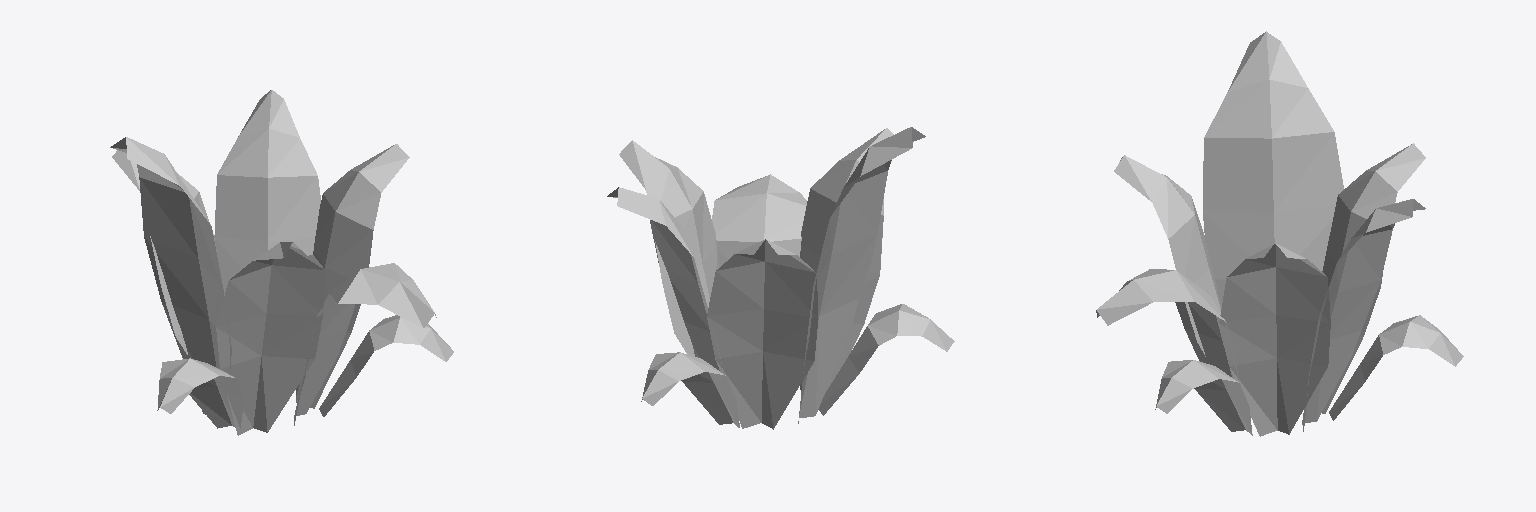
The model's file is Plant_6.obj.
3 renders of one model, left to right at view 1: azimuth 30°, elevation 25°; view 2: azimuth 150°, elevation 25°; view 3: azimuth 270°, elevation 25°, orthographic.
Visible parts, largest first — view 1: Plant_6; view 2: Plant_6; view 3: Plant_6.
Boxes of the visible parts, x1,y1,x2,y2 form: Plant_6: [110, 90, 453, 435]; Plant_6: [607, 127, 954, 429]; Plant_6: [1096, 31, 1463, 436].
Size of the model in its own units: 0.8983 by 0.9315 by 0.9836.